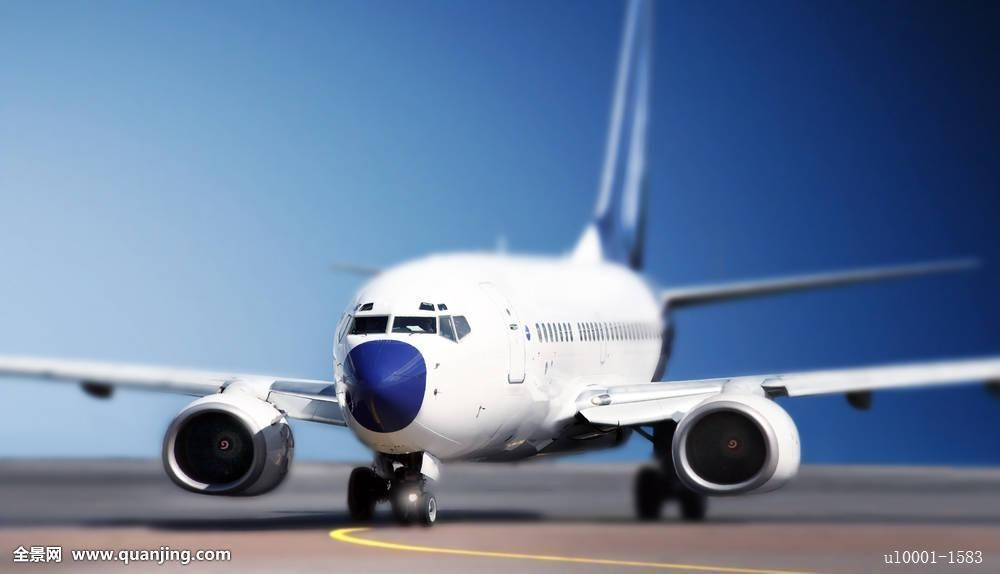airplane: (13, 18, 1000, 500)
